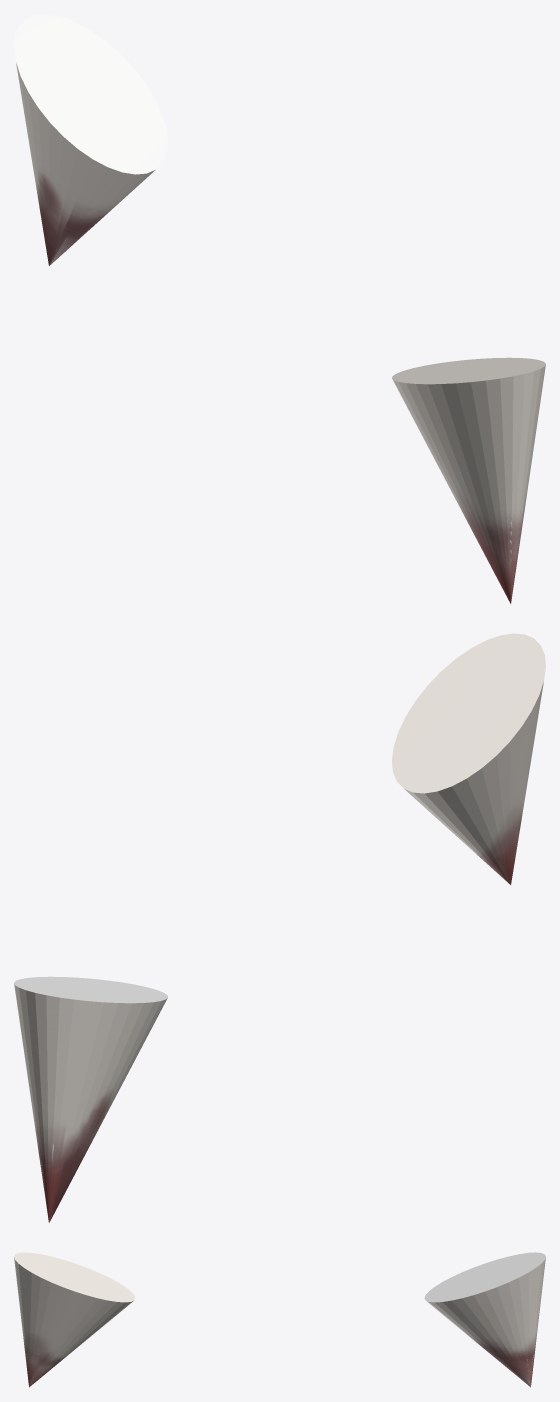
File: upVampiro.obj
3 renders of one model, top to bottom at view 1: azimuth 30°, elevation 25°; view 2: azimuth 150°, elevation 25°; view 3: azimuth 270°, elevation 25°, orthographic. The views are drawn at different scales.
Parts seen in each view (by area): view 1: colmillos; view 2: colmillos; view 3: colmillos.
Part boxes in pixels (x1,y1,x2,y2): colmillos: (14,14,545,603); colmillos: (14,633,545,1222); colmillos: (14,1252,545,1387).
Size of the model in its own units: 0.0647 by 0.1402 by 0.5166.
1 material, 1 textured.
